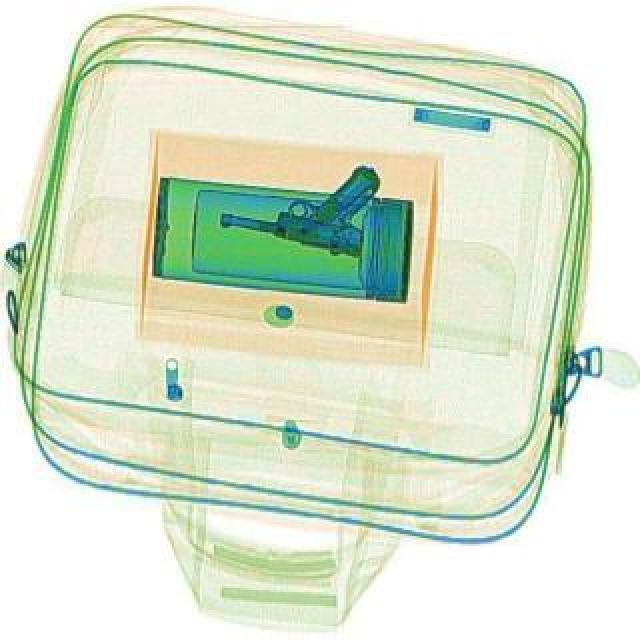gun: (214, 144, 382, 260)
